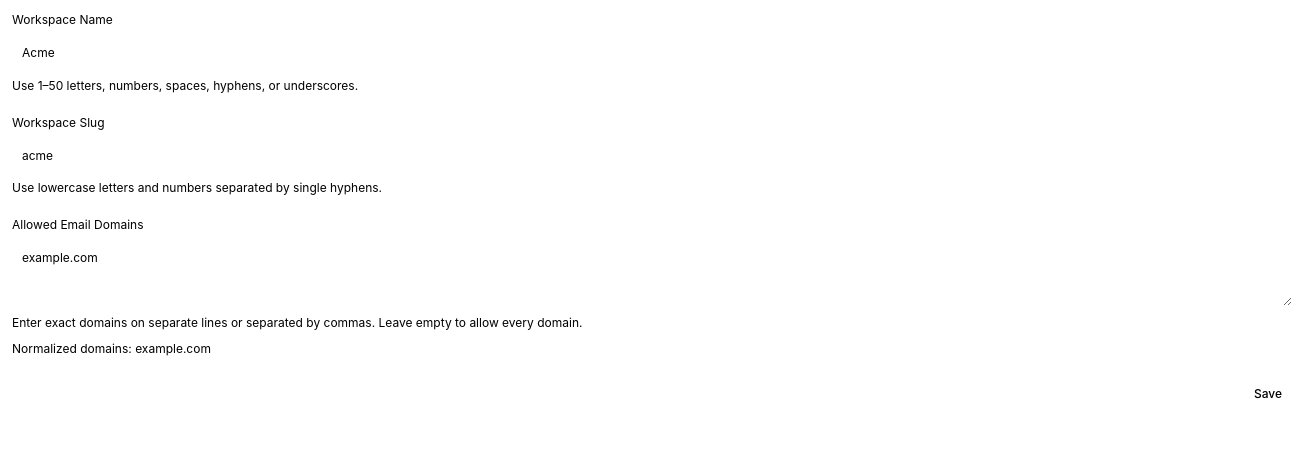
keeps confirmed returned settings when the canonical key is unchanged
This screenshot has width=1304, height=456.
Step 1. Replace the text in the field labelled "Workspace Name" with "Confirmed Name" → (652, 52), box [12,36,1292,68]
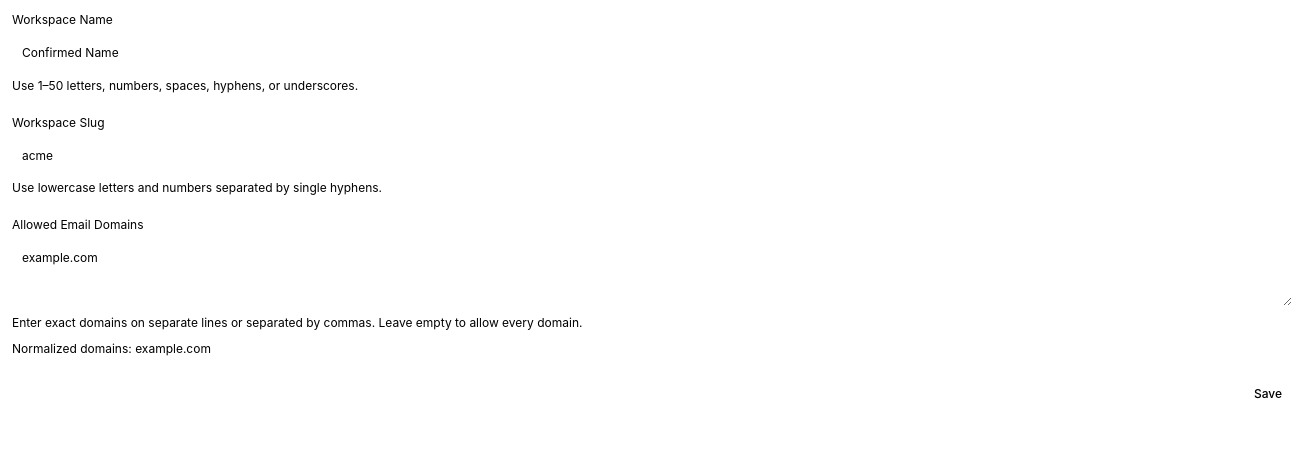
Step 2. Click the button "Save" → click(1268, 394), box [1244,378,1292,410]
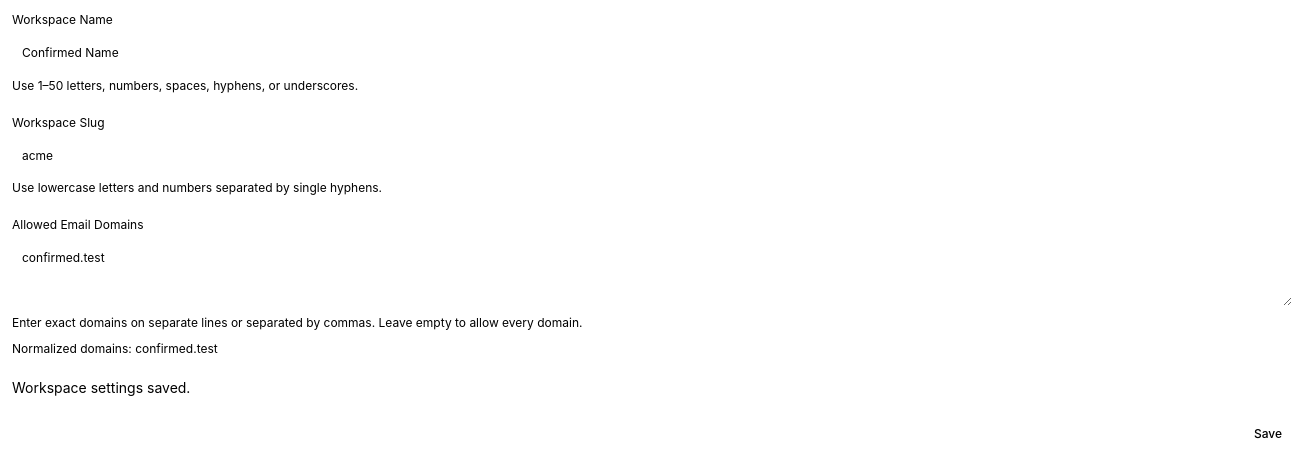
expect the message reads "Workspace settings saved.": met, box [12,378,190,396]
